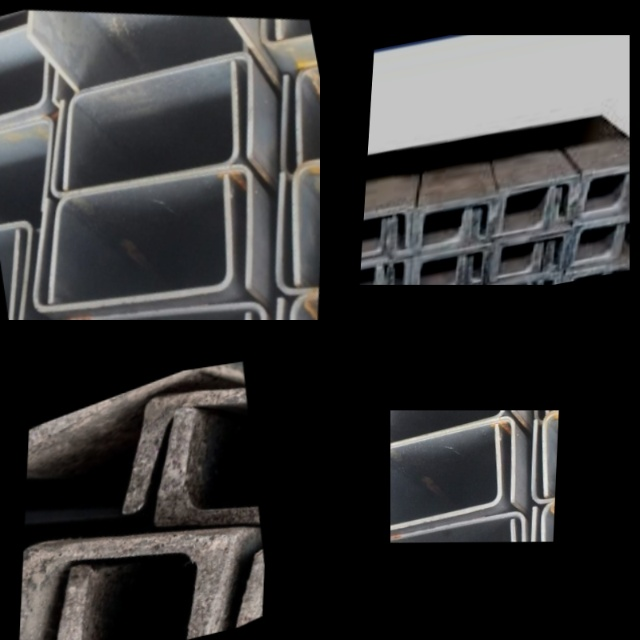Shveller: (44, 8, 277, 240), (33, 14, 264, 240), (29, 116, 281, 320), (18, 128, 257, 320), (18, 469, 247, 640), (41, 495, 268, 640), (115, 369, 265, 569), (139, 381, 270, 600), (25, 0, 213, 85), (28, 370, 189, 465), (390, 422, 518, 527), (390, 429, 501, 534), (0, 97, 68, 263), (259, 26, 320, 179), (0, 37, 60, 162), (0, 45, 65, 160), (273, 24, 320, 163), (417, 194, 498, 247), (390, 410, 512, 444), (390, 410, 504, 445), (391, 207, 468, 257), (501, 179, 578, 229), (476, 191, 553, 240), (495, 231, 569, 280), (548, 226, 622, 270), (557, 177, 630, 221), (413, 246, 491, 285), (258, 7, 315, 60), (572, 215, 630, 266), (468, 245, 540, 282), (581, 165, 630, 214), (362, 207, 410, 254), (388, 255, 462, 285), (18, 601, 69, 640), (563, 260, 630, 283), (359, 257, 410, 285), (361, 217, 386, 256), (488, 273, 559, 285)
